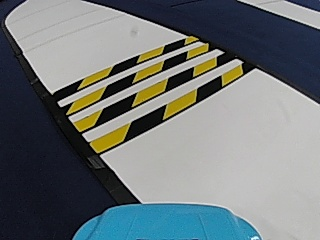bump: (73, 43, 209, 134)
